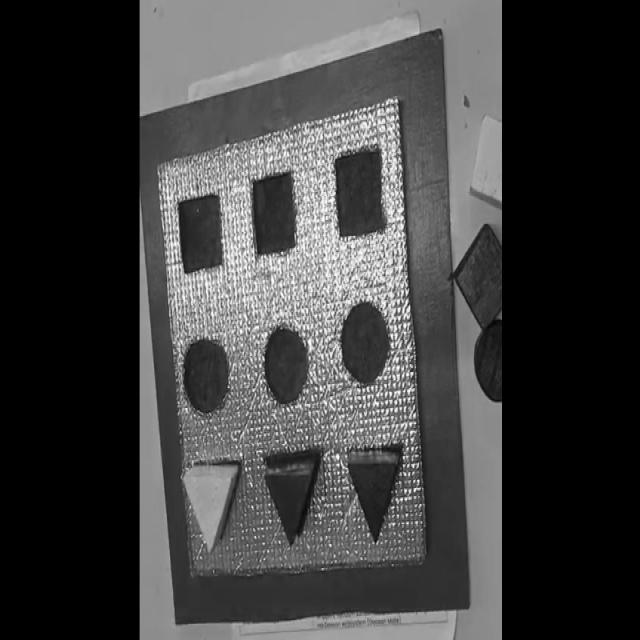bcircle: (474, 320, 502, 403)
btriangle: (344, 452, 401, 545)
mtcircle: (340, 300, 390, 386), (182, 336, 231, 416), (264, 325, 310, 403)
mtcube: (334, 148, 385, 241), (252, 170, 298, 256), (179, 192, 226, 273)
rcube: (451, 221, 503, 329)
rtriangle: (263, 453, 322, 550)
wb: (155, 93, 428, 582)
ycube: (469, 116, 502, 213)
ytriangle: (182, 460, 242, 555)
